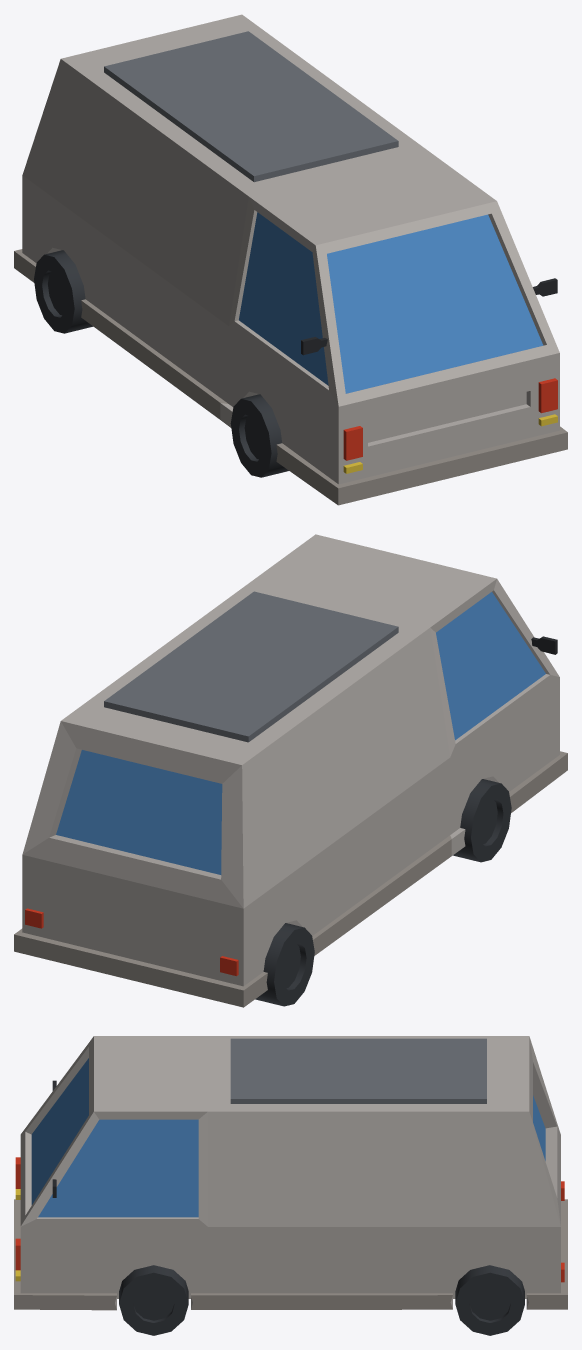
The model's file is Van_4.fbx.
3 views of the same model, one above another, from view 1: azimuth 30°, elevation 25°; view 2: azimuth 150°, elevation 25°; view 3: azimuth 270°, elevation 25° (orthographic). The views are drawn at different scales.
Visible parts, largest first — view 1: Van_4; view 2: Van_4; view 3: Van_4.
Boxes of the visible parts, box(x1,y1,x2,y2) form: Van_4: box(14, 14, 567, 505); Van_4: box(14, 534, 567, 1007); Van_4: box(14, 1036, 567, 1335).
Bounding box in the file's own units: 243 × 232 × 535.
